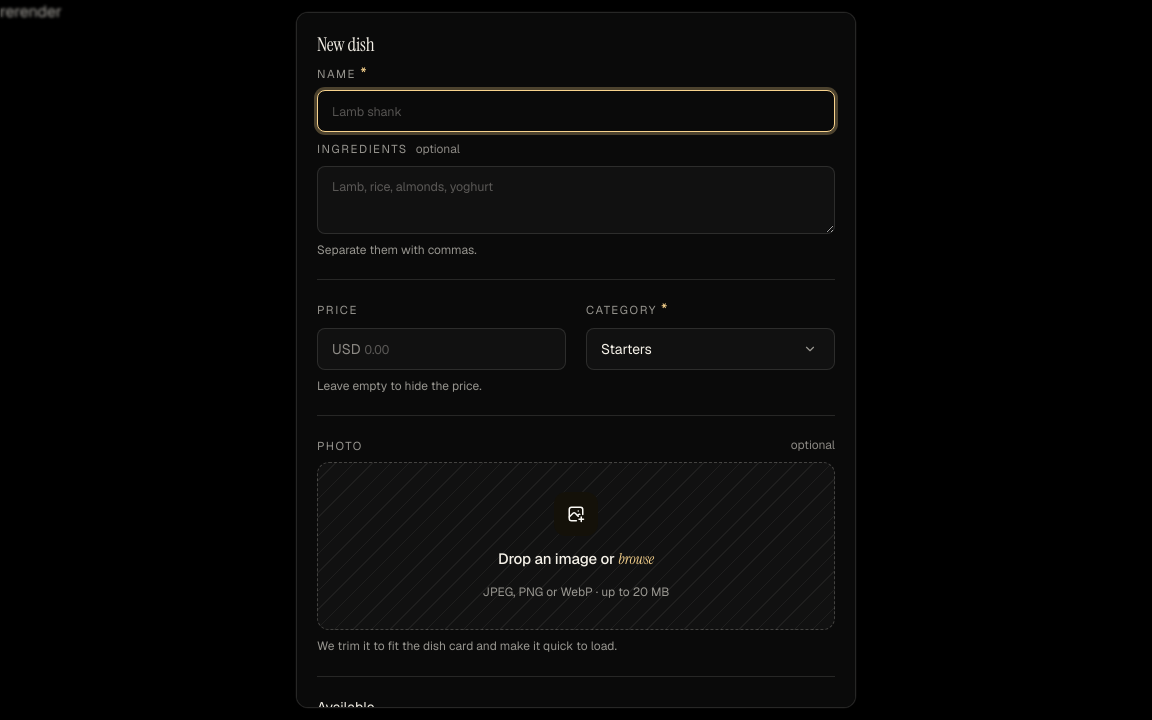
Test: DishDialog › rejects a negative price before anything is sent
Type "Lamb" into the field labelled "Name*" at x=576, y=111, box [318,91,834,131]
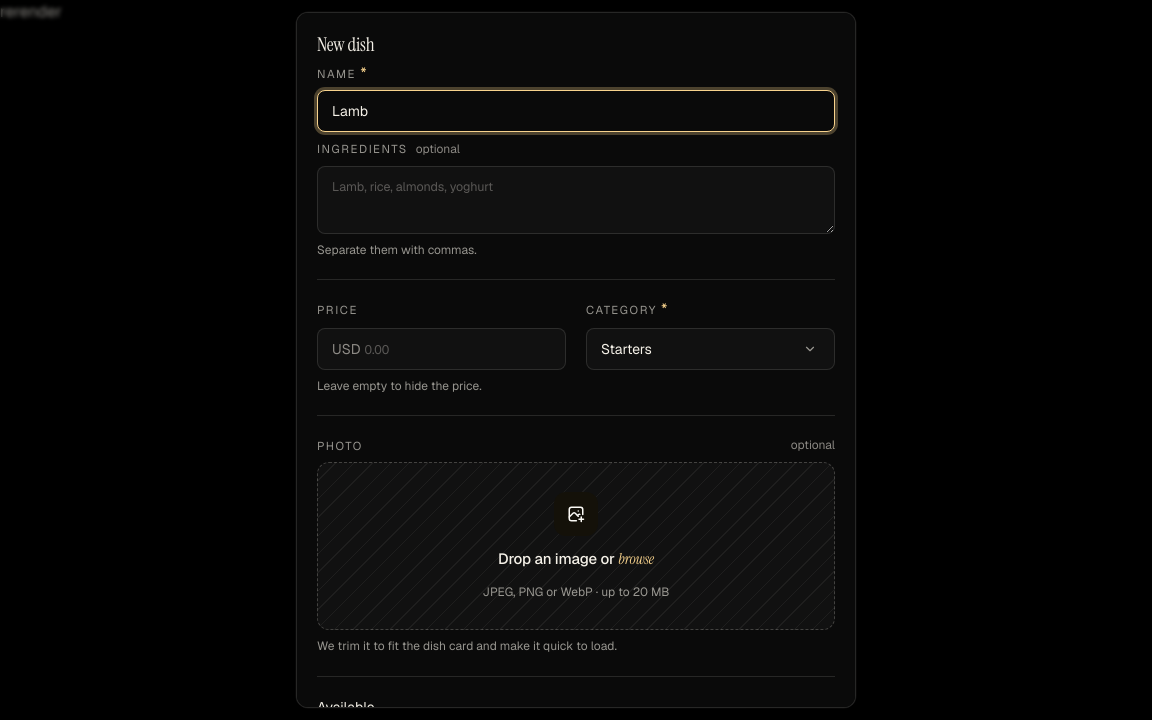
Type "-3" into the number field labelled "Price" at x=463, y=349, box [360,329,565,369]
(page scrolled)
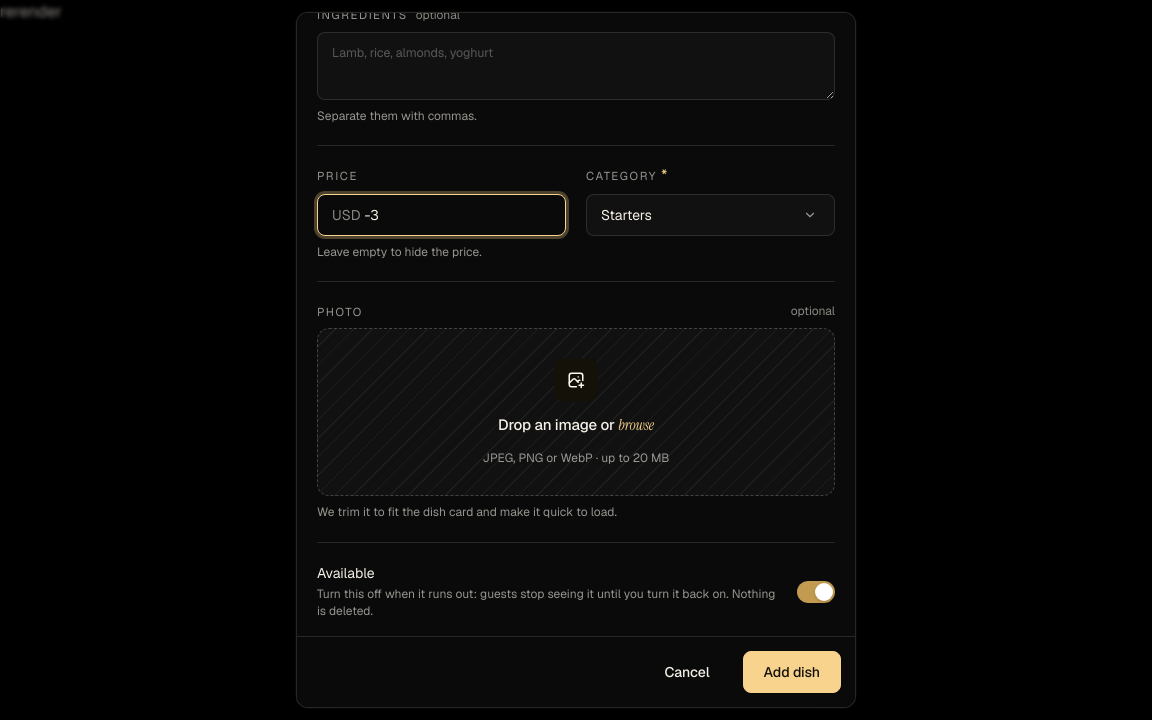
Click the button "Add dish" at x=792, y=672, box [742,652,841,694]
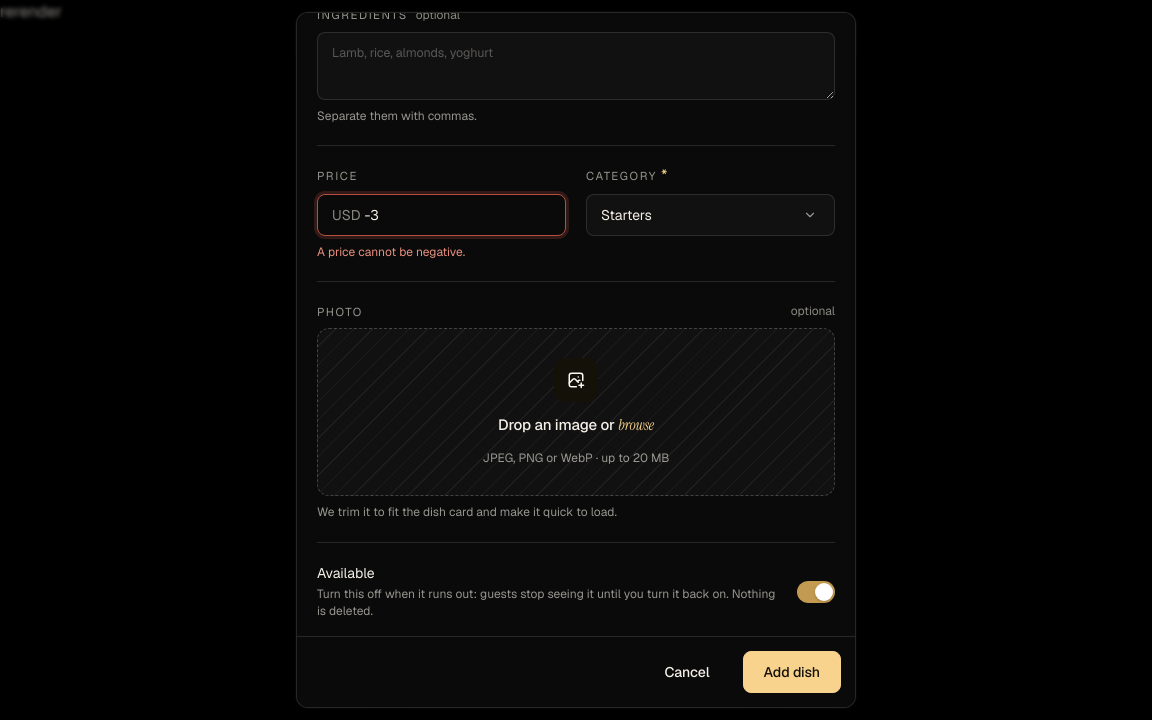
Result: the text "A price cannot be negative." is shown at [317,244,465,261]
